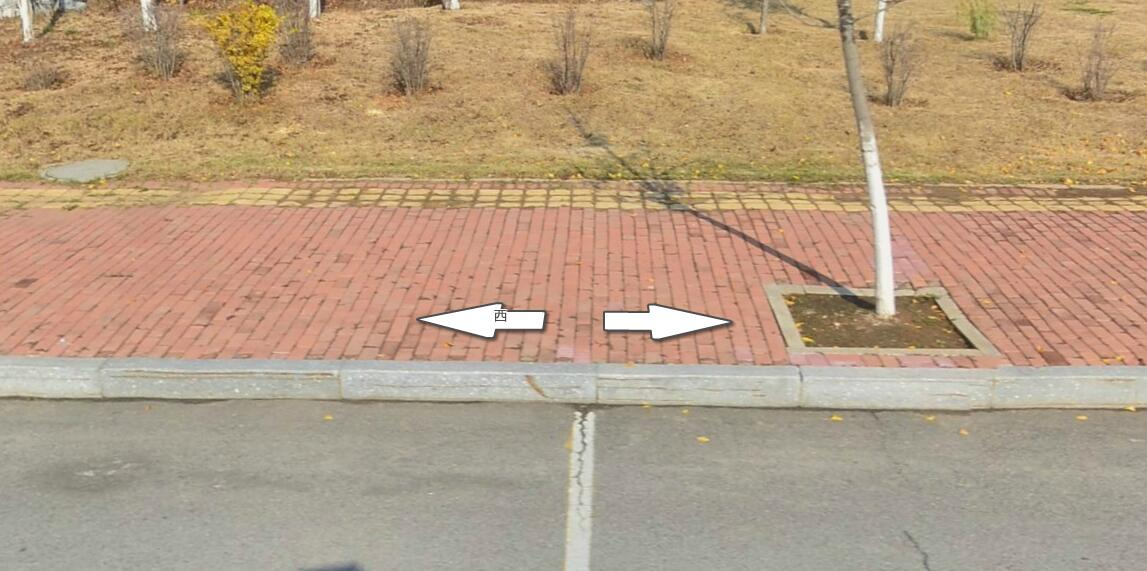side: (338, 358, 597, 404), (99, 357, 341, 401), (800, 363, 993, 410), (592, 363, 801, 406)
